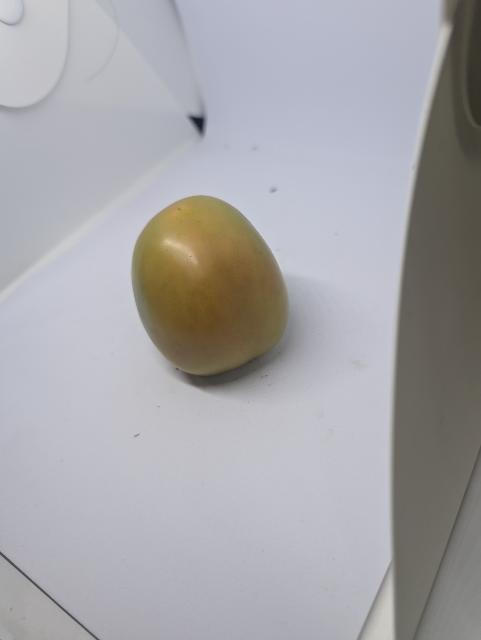breaker: (125, 192, 293, 379)
